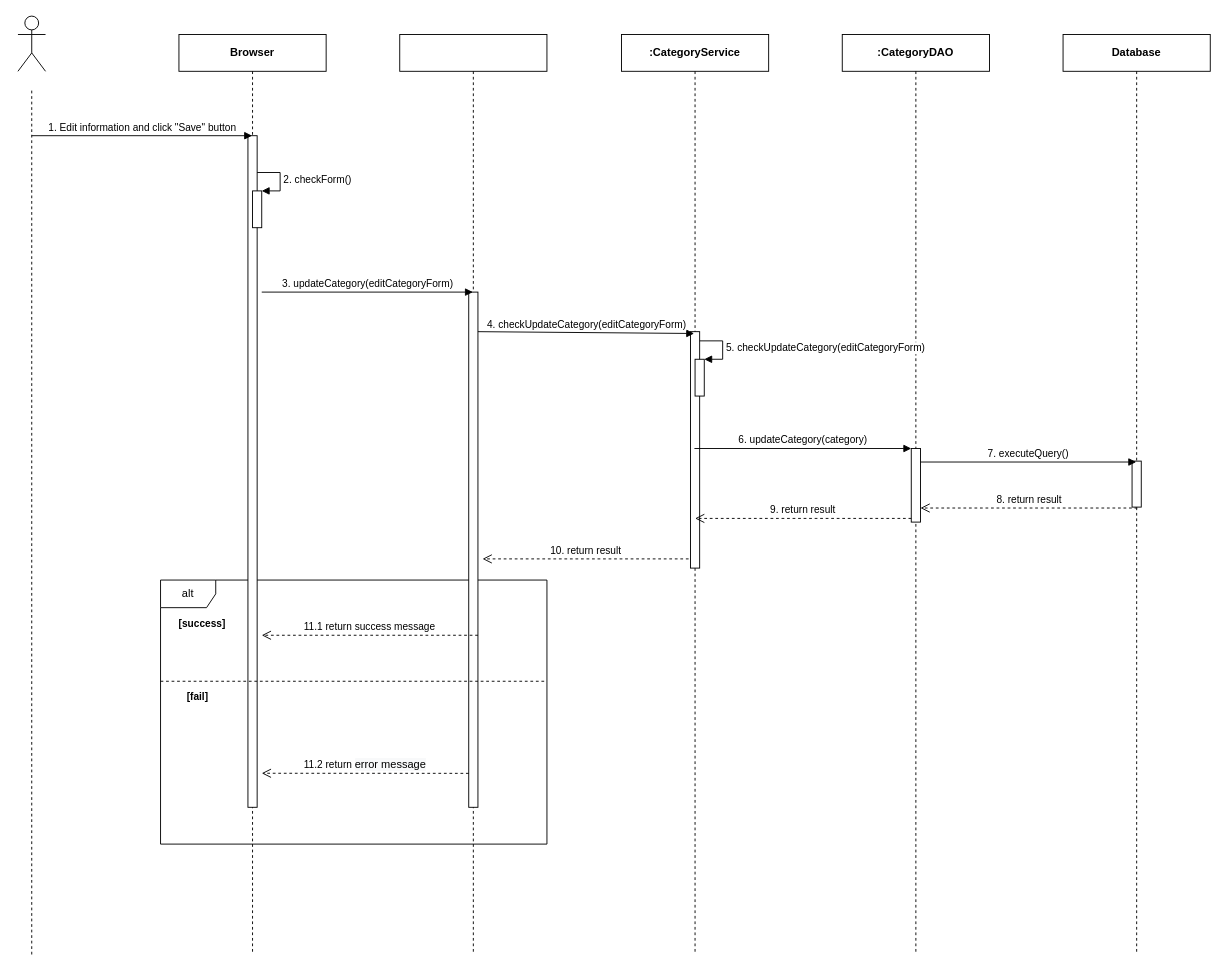
Image size: 1226x972. Some labels were removed from this diagram. The shapes that lost their labels are listed below. From the top down, each one's box as (x1, y1, x2, y2) in pixels, then its label:
(17, 15, 46, 71): Admin
(399, 34, 547, 954): :CategoryController
